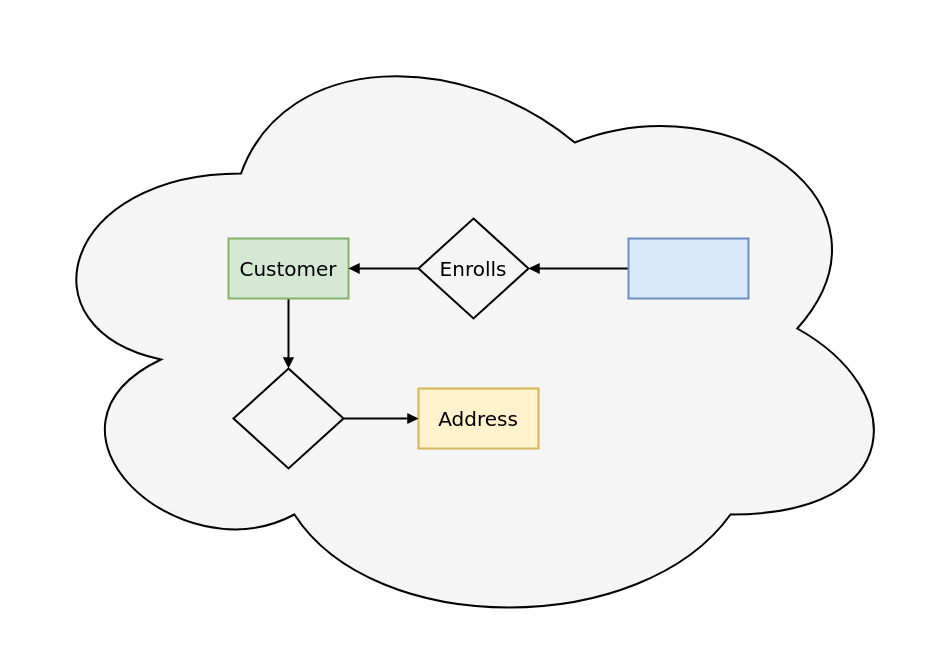
This 926x656 diagram has some shape labels left out. The centre of each missing label's shape, as x and y in pixels:
Admin: (688,268)
Has: (288,418)
